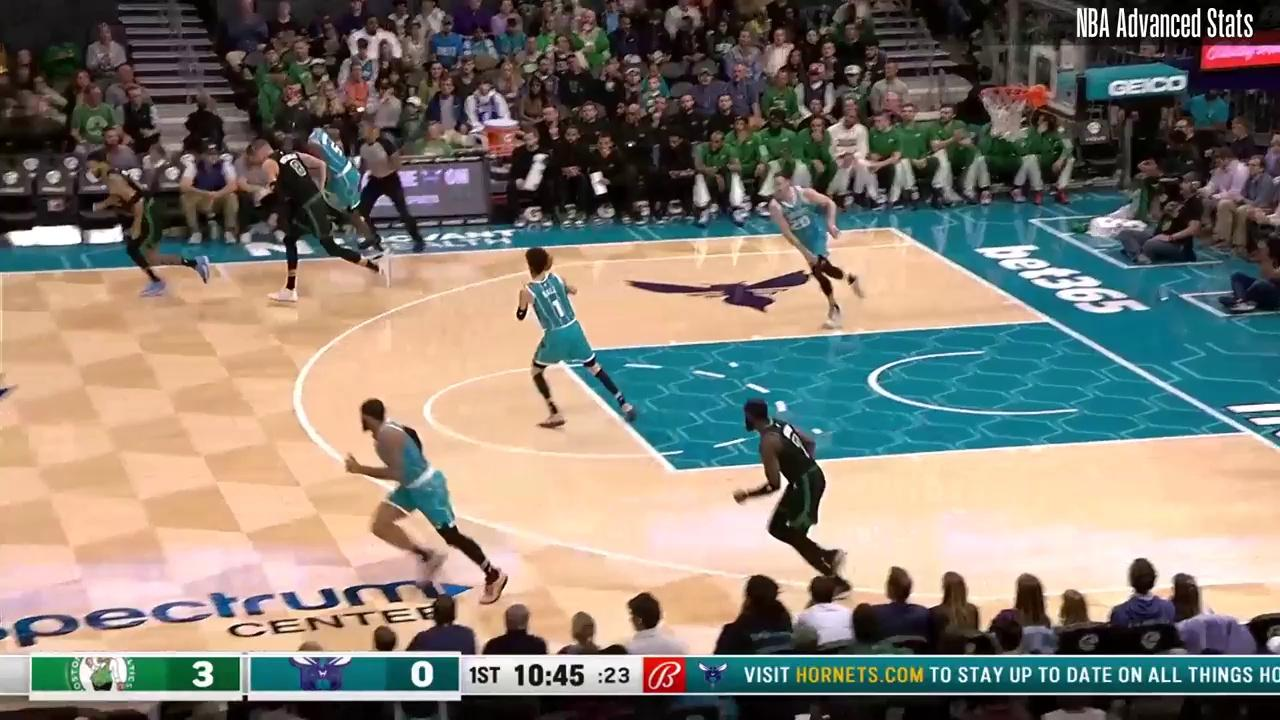3_sx: (906, 234, 928, 250)
b_sx: (880, 219, 900, 237)
free_adx: (662, 458, 687, 483)
free_bdx: (1239, 420, 1259, 442)
free_bsx: (1035, 311, 1061, 333)
mid_sx: (217, 272, 235, 287)
referee: (358, 122, 427, 256)
team: (735, 394, 859, 600), (244, 135, 388, 300), (85, 151, 212, 298)
team1: (344, 400, 507, 606), (515, 249, 633, 427), (772, 171, 864, 328), (290, 120, 388, 258)
timer: (507, 658, 592, 694)
